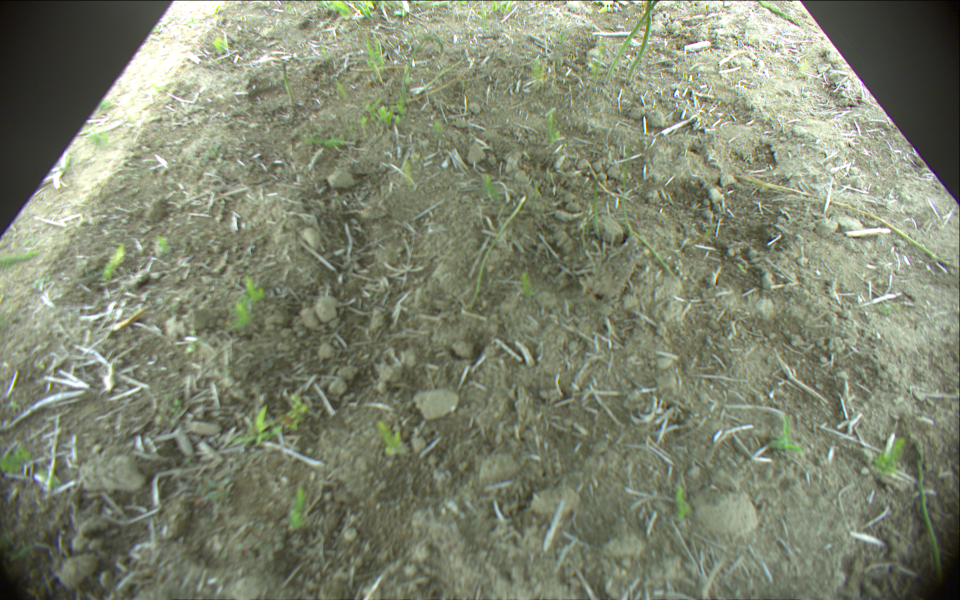aspa: (736, 171, 948, 265), (621, 158, 677, 280), (468, 195, 526, 311), (605, 1, 657, 83), (916, 461, 945, 592), (626, 1, 652, 86), (760, 1, 801, 25), (281, 61, 297, 105)
